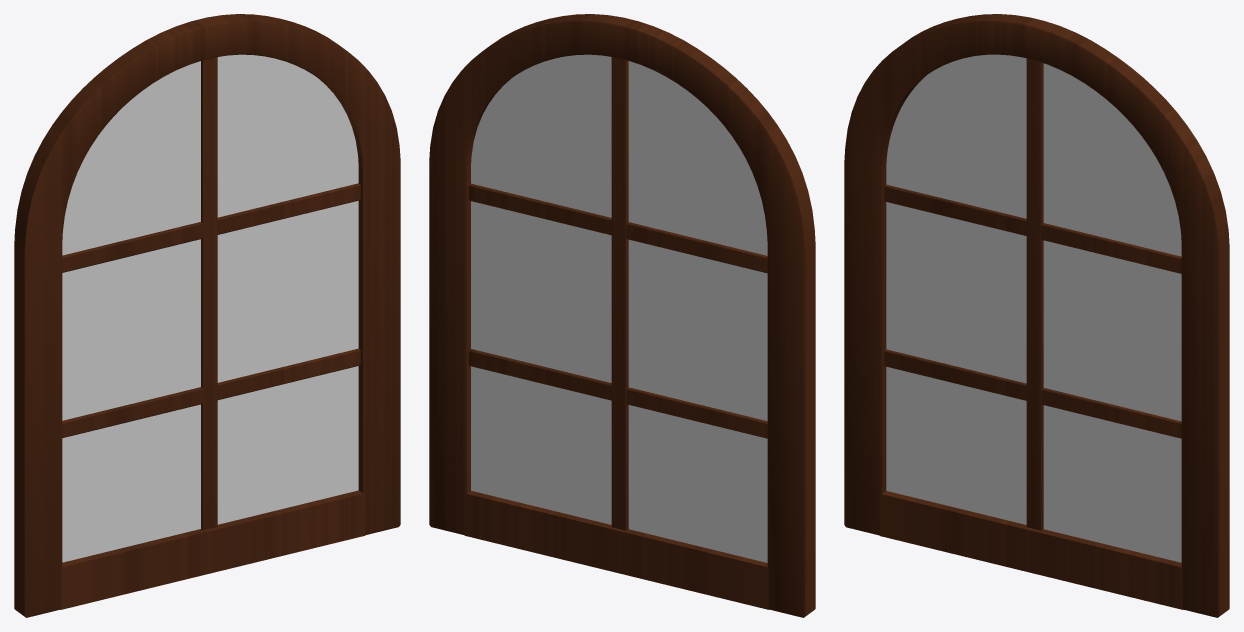
File: Window_S.fbx
3 views of the same model, side by side, from view 1: azimuth 30°, elevation 25°; view 2: azimuth 150°, elevation 25°; view 3: azimuth 330°, elevation 25° (orthographic).
Parts seen in each view (by area): view 1: Window.001; view 2: Window.001; view 3: Window.001.
Boxes of the visible parts, bbox=[...] form: Window.001: bbox=[14, 14, 400, 617]; Window.001: bbox=[429, 14, 815, 617]; Window.001: bbox=[844, 14, 1229, 617].
Size of the model in its own units: 97.62 by 136 by 5.14.
